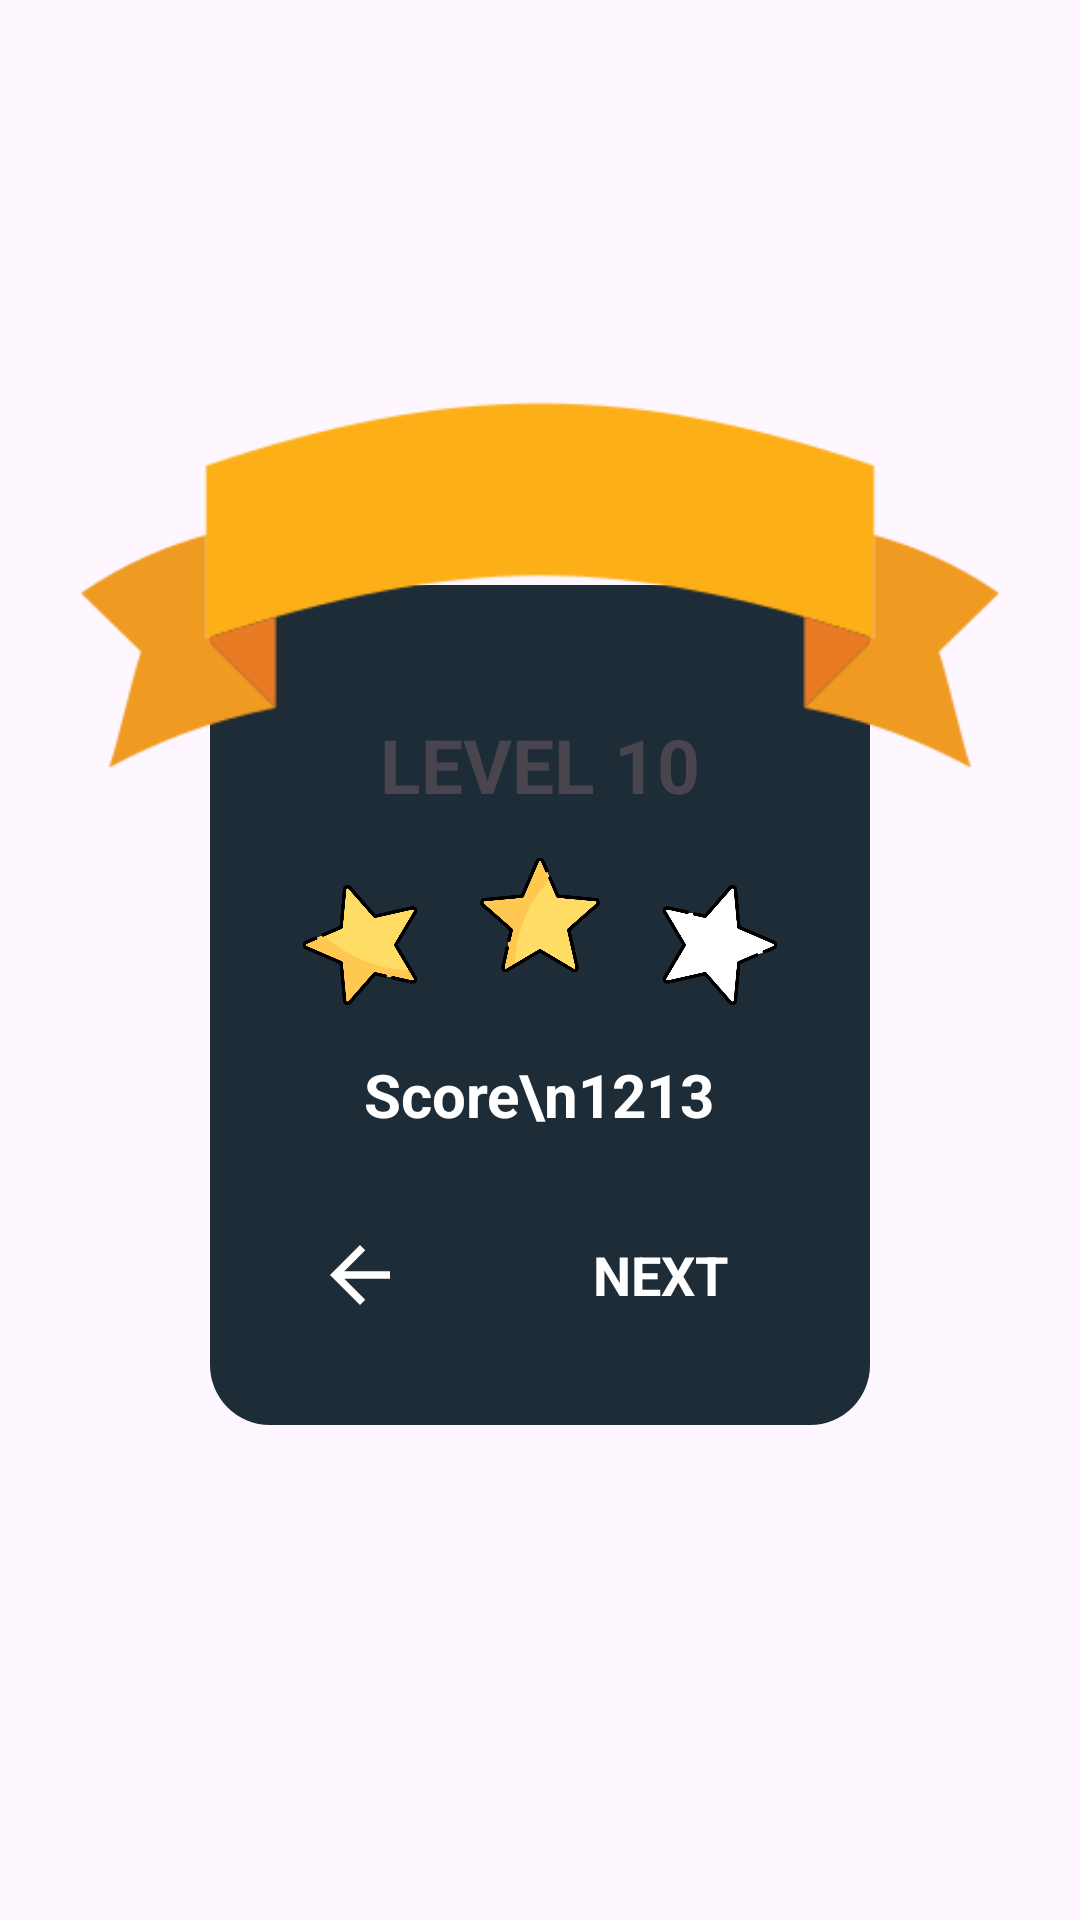

Screen size 1080w x 1920h. Icon name, then its box in pixels as (x1, y1, x2, y2):
no star: (663, 885, 777, 1005)
star: (480, 858, 600, 972), (303, 885, 417, 1005)
